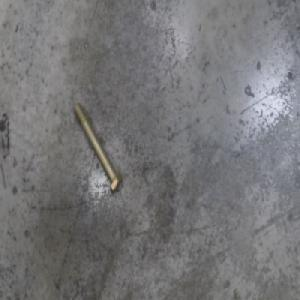Bolt: (72, 99, 122, 194)
